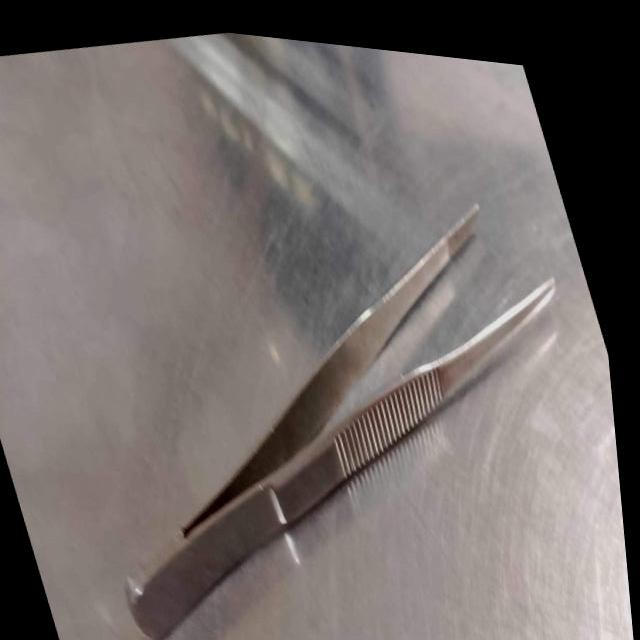Pathological: (0, 28, 636, 640)
Sharps: (121, 275, 558, 640), (178, 202, 481, 540)
